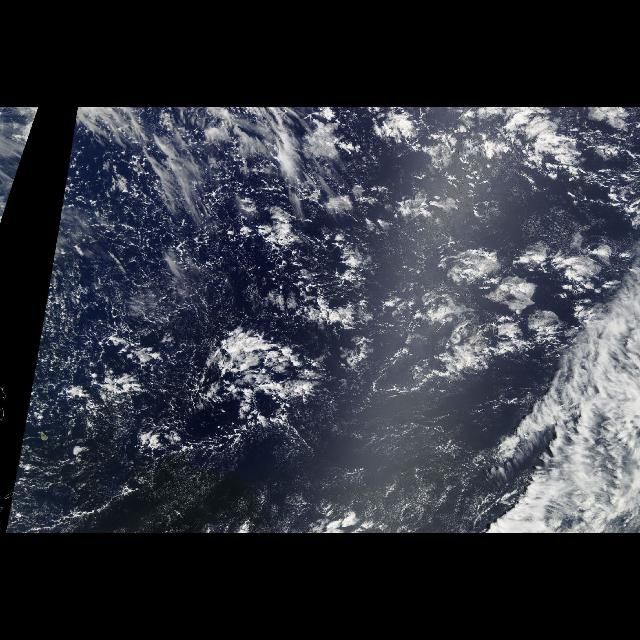Fish: (504, 253, 636, 465)
Flower: (353, 121, 639, 431)
Gravel: (23, 183, 451, 469)
Sugar: (181, 418, 471, 534)
